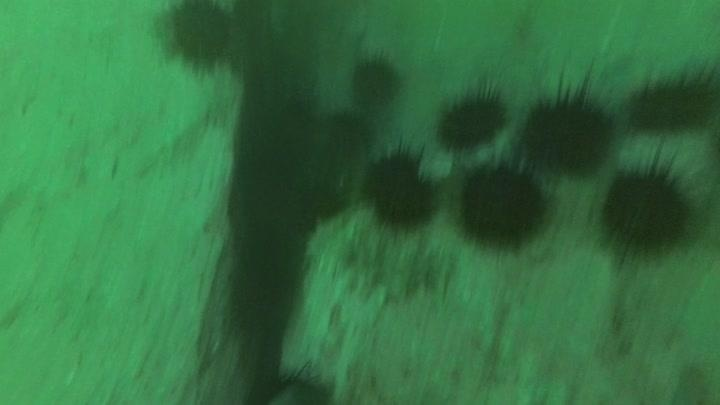echinus: (597, 158, 697, 260), (518, 82, 617, 177), (456, 162, 550, 249), (360, 143, 440, 232), (625, 62, 718, 135), (227, 247, 301, 331), (434, 83, 510, 153), (163, 1, 238, 69), (242, 357, 337, 405), (348, 52, 403, 109), (320, 109, 374, 162)
holothurian: (304, 218, 458, 306)
